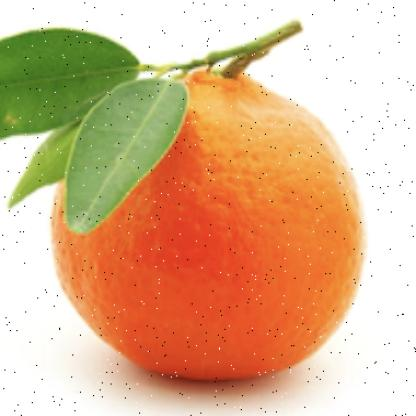fresh: (44, 56, 363, 382)
